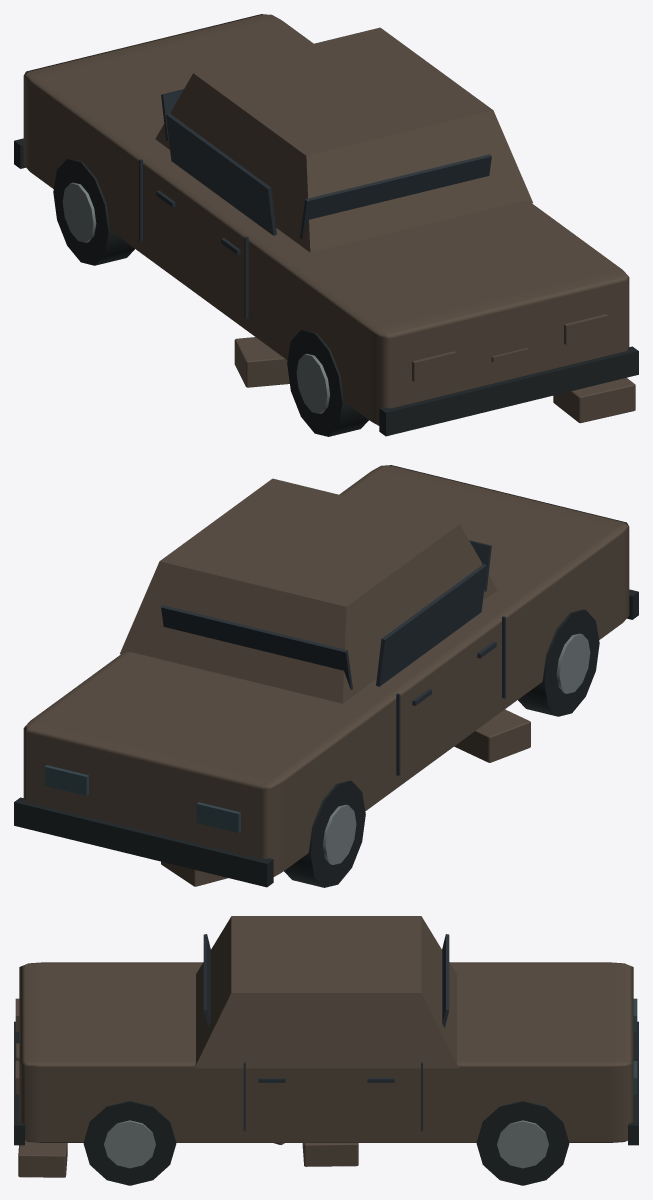
File: sedan-wreck-2.glb
3 renders of one model, top to bottom at view 1: azimuth 30°, elevation 25°; view 2: azimuth 150°, elevation 25°; view 3: azimuth 270°, elevation 25°, orthographic. The views are drawn at different scales.
Visible parts, largest first — view 1: sedan-wreck/1/KR-230-2; view 2: sedan-wreck/1/KR-230-2; view 3: sedan-wreck/1/KR-230-2.
Boxes of the visible parts, bbox=[...] form: sedan-wreck/1/KR-230-2: bbox=[14, 14, 638, 436]; sedan-wreck/1/KR-230-2: bbox=[14, 465, 638, 887]; sedan-wreck/1/KR-230-2: bbox=[14, 916, 638, 1185].
Size of the model in its own units: 1.95 by 1.5 by 4.58.
